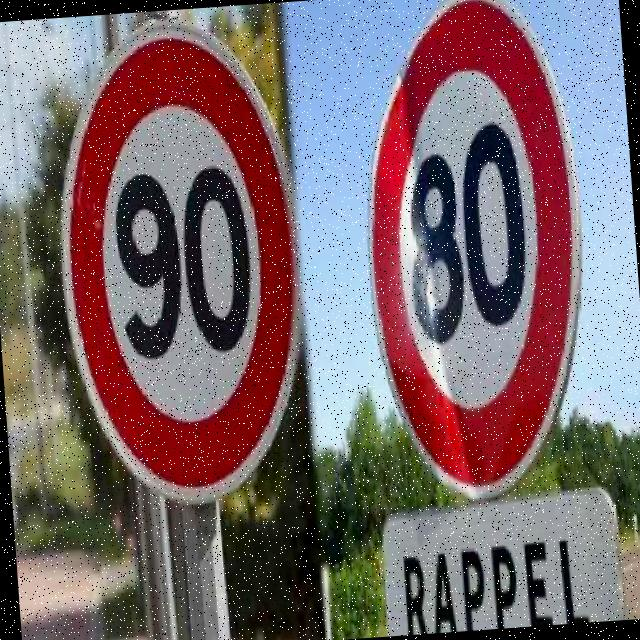Ograniczenie predkosci do 90: (56, 14, 306, 502)
